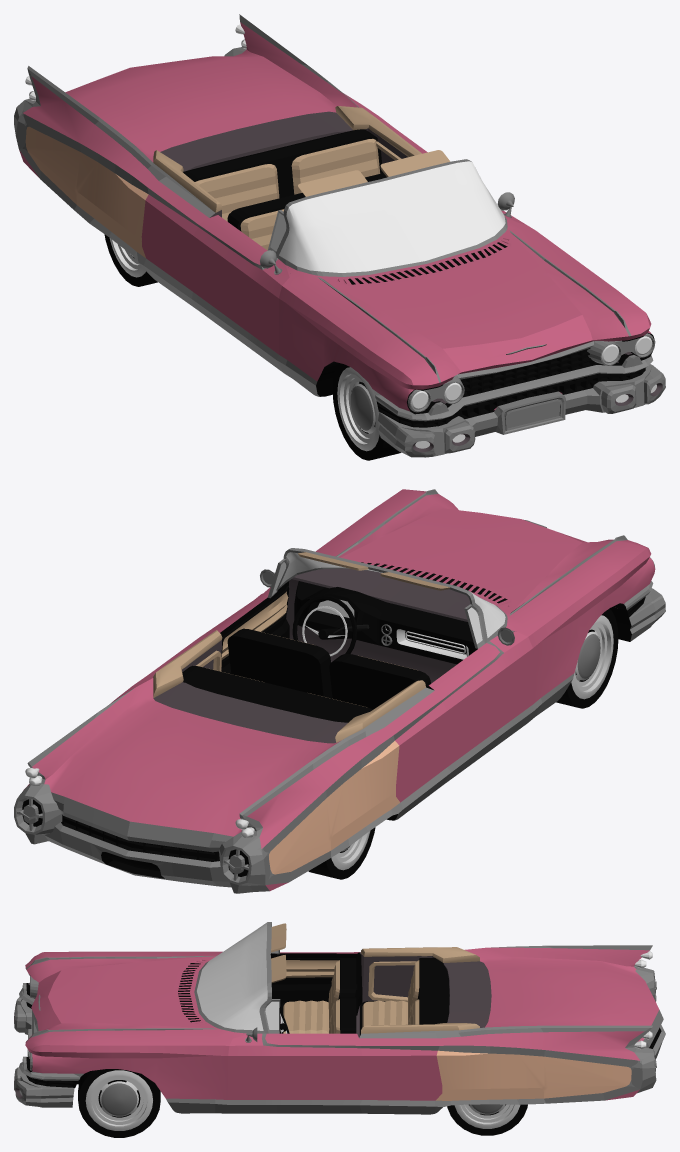
File: CALDERA ELDARO.fbx
3 renders of one model, top to bottom at view 1: azimuth 30°, elevation 25°; view 2: azimuth 150°, elevation 25°; view 3: azimuth 270°, elevation 25°, orthographic. The views are drawn at different scales.
Parts seen in each view (by area): view 1: Plane.005, Plane.014, Plane.016, Plane.018, Plane.030, Plane.013, Plane.017, Plane.023, Cube, Circle.012, Plane.019, Cylinder.002 (+3 smaller); view 2: Plane.005, Plane.014, Cube, Plane.017, Plane.030, Plane.013, Plane.018, Plane.023, Plane.016, Circle.012, Plane.002, Cylinder.002 (+7 smaller); view 3: Plane.005, Plane.014, Plane.011, Plane.013, Plane.018, Plane.016, Plane.017, Cube, Circle.006, Plane.029, Circle.004, Plane.012 (+6 smaller).
Part boxes in pixels (x1=…): Plane.005: x1=19, y1=22, x2=651, y2=411; Plane.014: x1=14, y1=14, x2=665, y2=457; Plane.016: x1=270, y1=161, x2=505, y2=272; Plane.018: x1=153, y1=106, x2=449, y2=250; Plane.030: x1=193, y1=215, x2=289, y2=354; Plane.013: x1=25, y1=126, x2=148, y2=257; Plane.017: x1=160, y1=111, x2=407, y2=217; Plane.023: x1=316, y1=348, x2=645, y2=427; Cube: x1=183, y1=129, x2=386, y2=231; Circle.012: x1=337, y1=367, x2=379, y2=451; Plane.019: x1=411, y1=336, x2=656, y2=448; Cylinder.002: x1=192, y1=224, x2=282, y2=359; Plane.005: x1=23, y1=489, x2=655, y2=890; Plane.014: x1=14, y1=489, x2=665, y2=893; Cube: x1=182, y1=581, x2=477, y2=722; Plane.017: x1=153, y1=568, x2=514, y2=743; Plane.030: x1=429, y1=631, x2=533, y2=766; Plane.013: x1=269, y1=741, x2=399, y2=874; Plane.018: x1=153, y1=552, x2=450, y2=742; Plane.023: x1=22, y1=596, x2=645, y2=878; Plane.016: x1=273, y1=552, x2=505, y2=643; Circle.012: x1=571, y1=615, x2=613, y2=699; Plane.002: x1=220, y1=581, x2=289, y2=673; Cylinder.002: x1=443, y1=627, x2=533, y2=771; Plane.005: x1=25, y1=947, x2=659, y2=1100; Plane.014: x1=14, y1=922, x2=665, y2=1114; Plane.011: x1=227, y1=1033, x2=362, y2=1099; Plane.013: x1=436, y1=1050, x2=631, y2=1100; Plane.018: x1=271, y1=923, x2=479, y2=1033; Plane.016: x1=197, y1=922, x2=279, y2=1030; Plane.017: x1=280, y1=953, x2=491, y2=1037; Cube: x1=281, y1=958, x2=449, y2=1035; Circle.006: x1=85, y1=1070, x2=152, y2=1130; Plane.029: x1=270, y1=952, x2=362, y2=1015; Circle.004: x1=78, y1=1069, x2=160, y2=1137; Plane.012: x1=228, y1=1027, x2=362, y2=1105.
Bounding box in the file's own units: 212 × 142 × 587.
